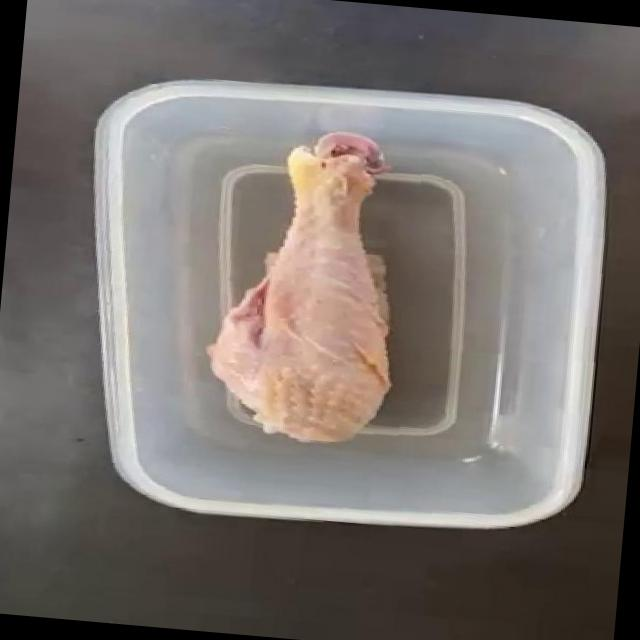chicken: (200, 108, 426, 452)
